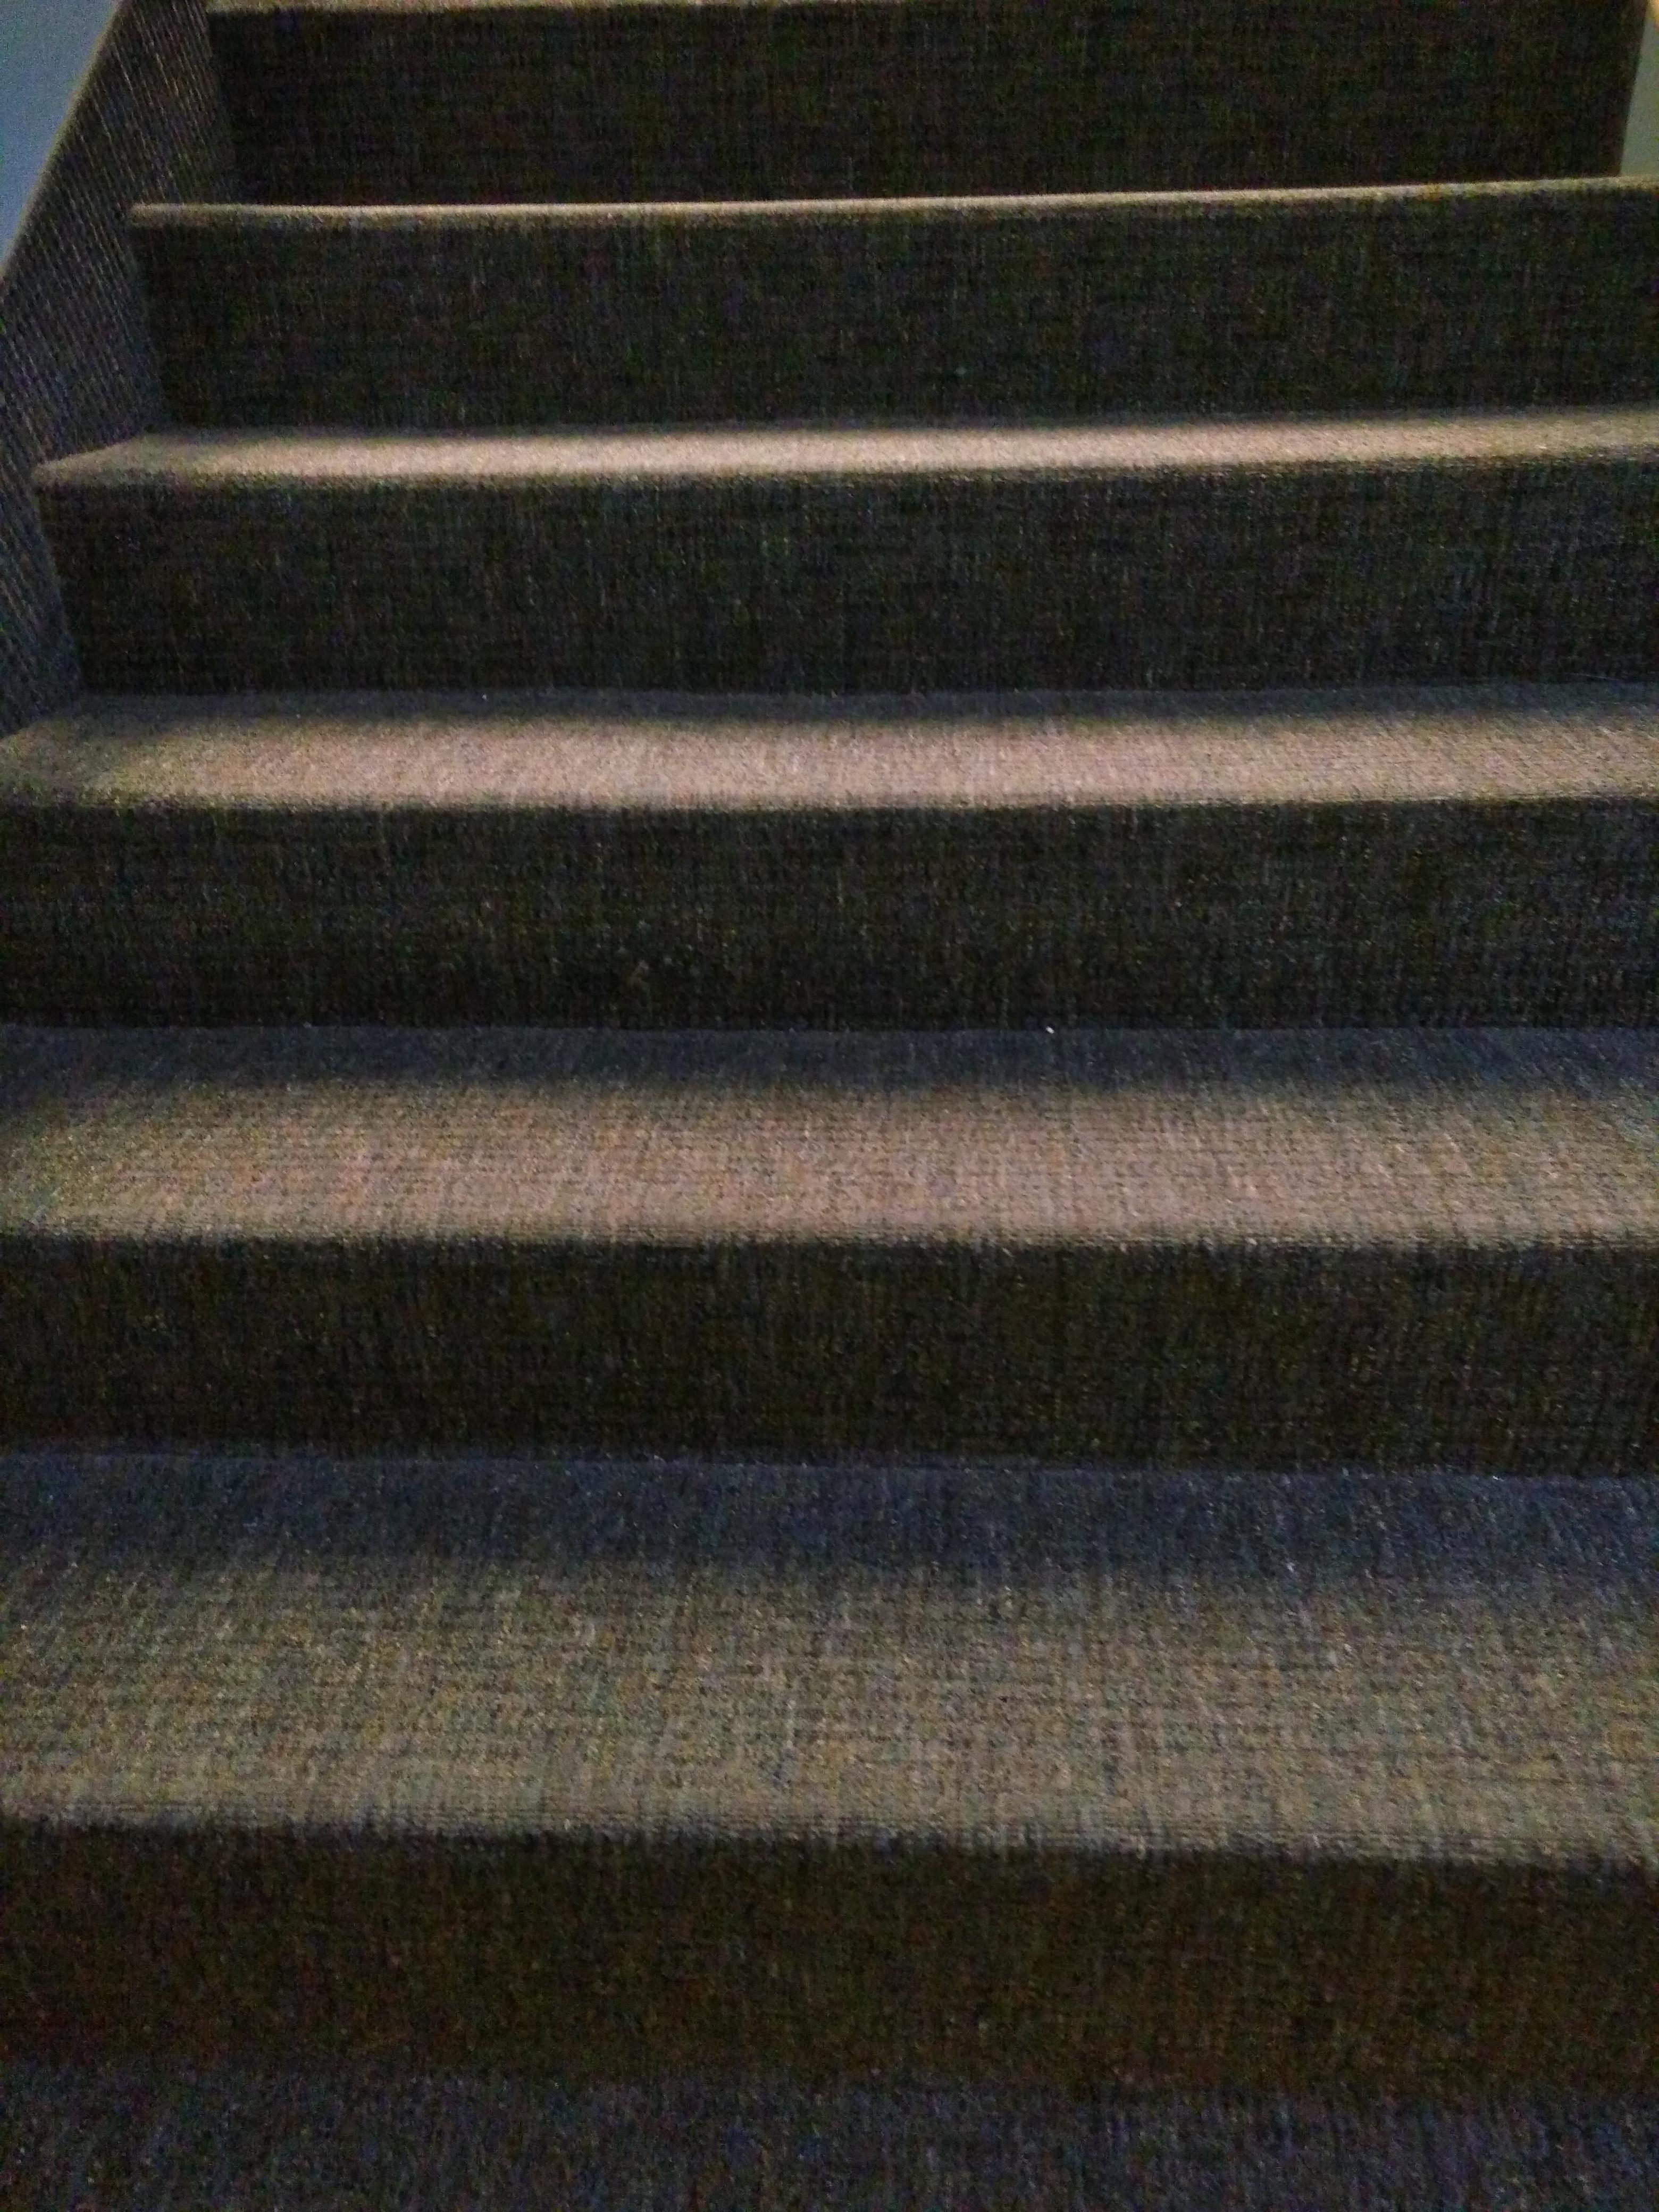stairs_up: (91, 42, 1535, 2107)
